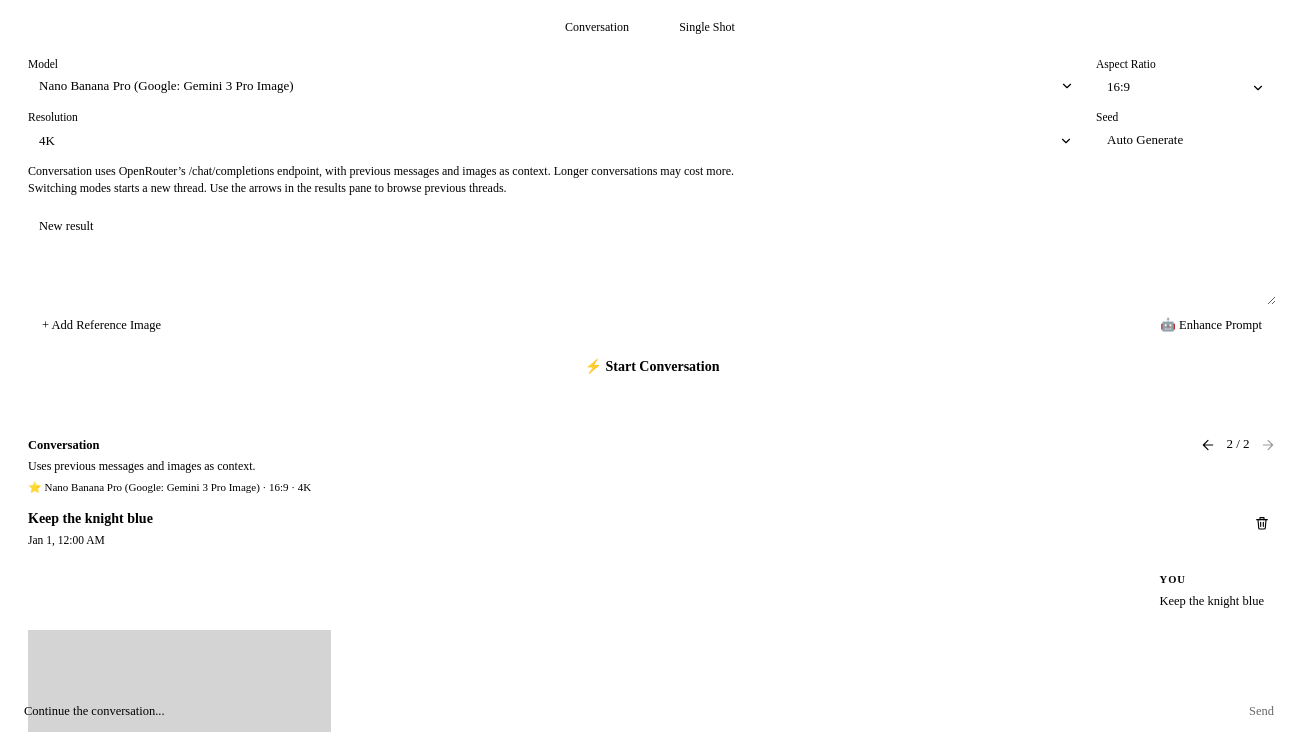
Test case: results-pane thread navigation › shows the pending generation instead of an archive, locks navigation, and restores the live thread on failure
The width and height of the screenshot is (1304, 732).
Later steps or results of the test are not shown.
Click the button named "Previous thread" at point(1208, 445), box [1200, 437, 1216, 453]
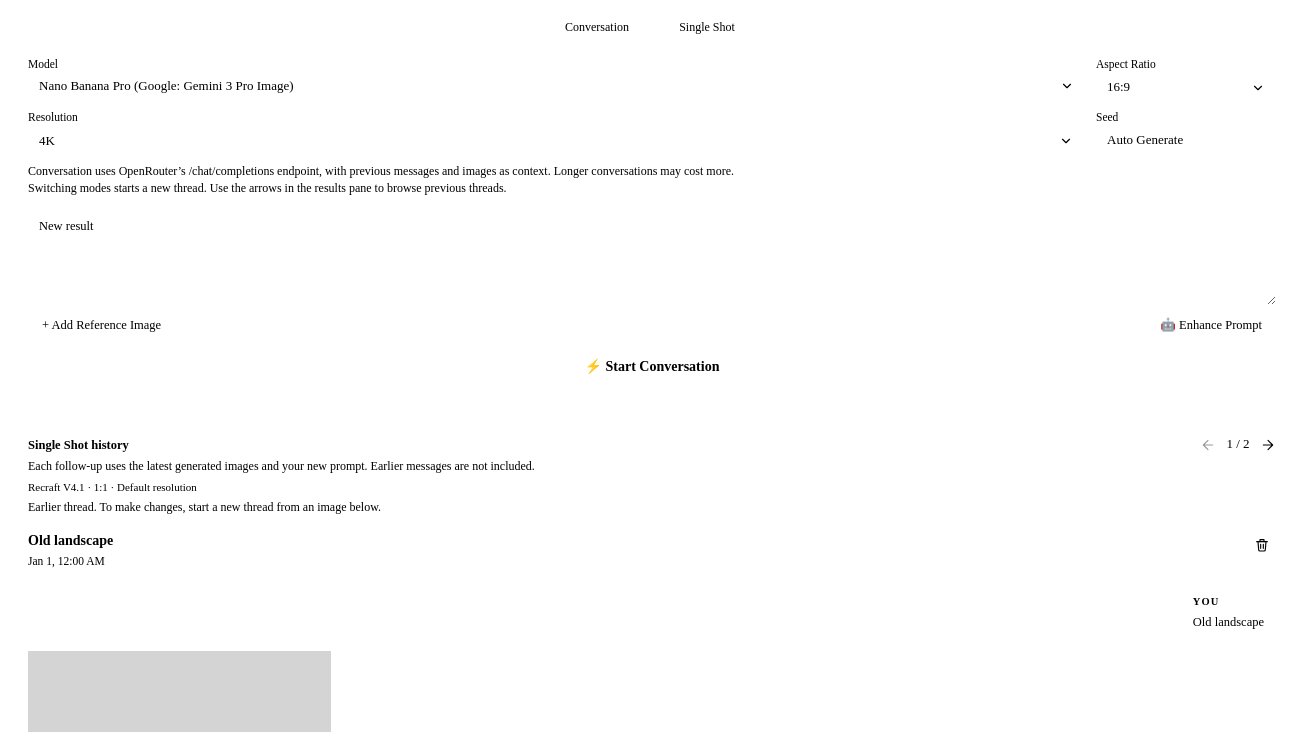
Click the button "⚡ Start Conversation" at point(652, 366), box [28, 345, 1276, 387]
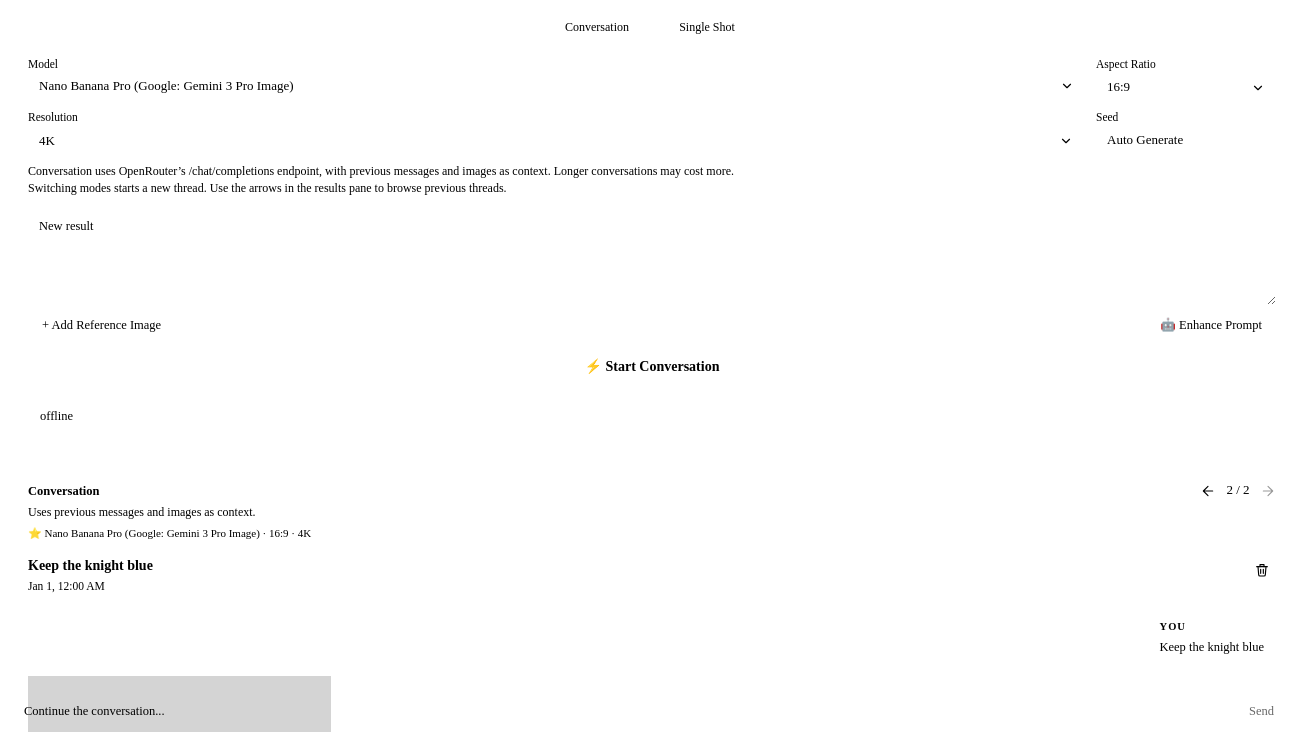
Check: the text with alt text "Old landscape" is gone
Check: the button named "Next thread" is disabled, box [1260, 483, 1276, 499]
Check: the field labelled "Continue the conversation..." is shown, box [12, 702, 1223, 720]
